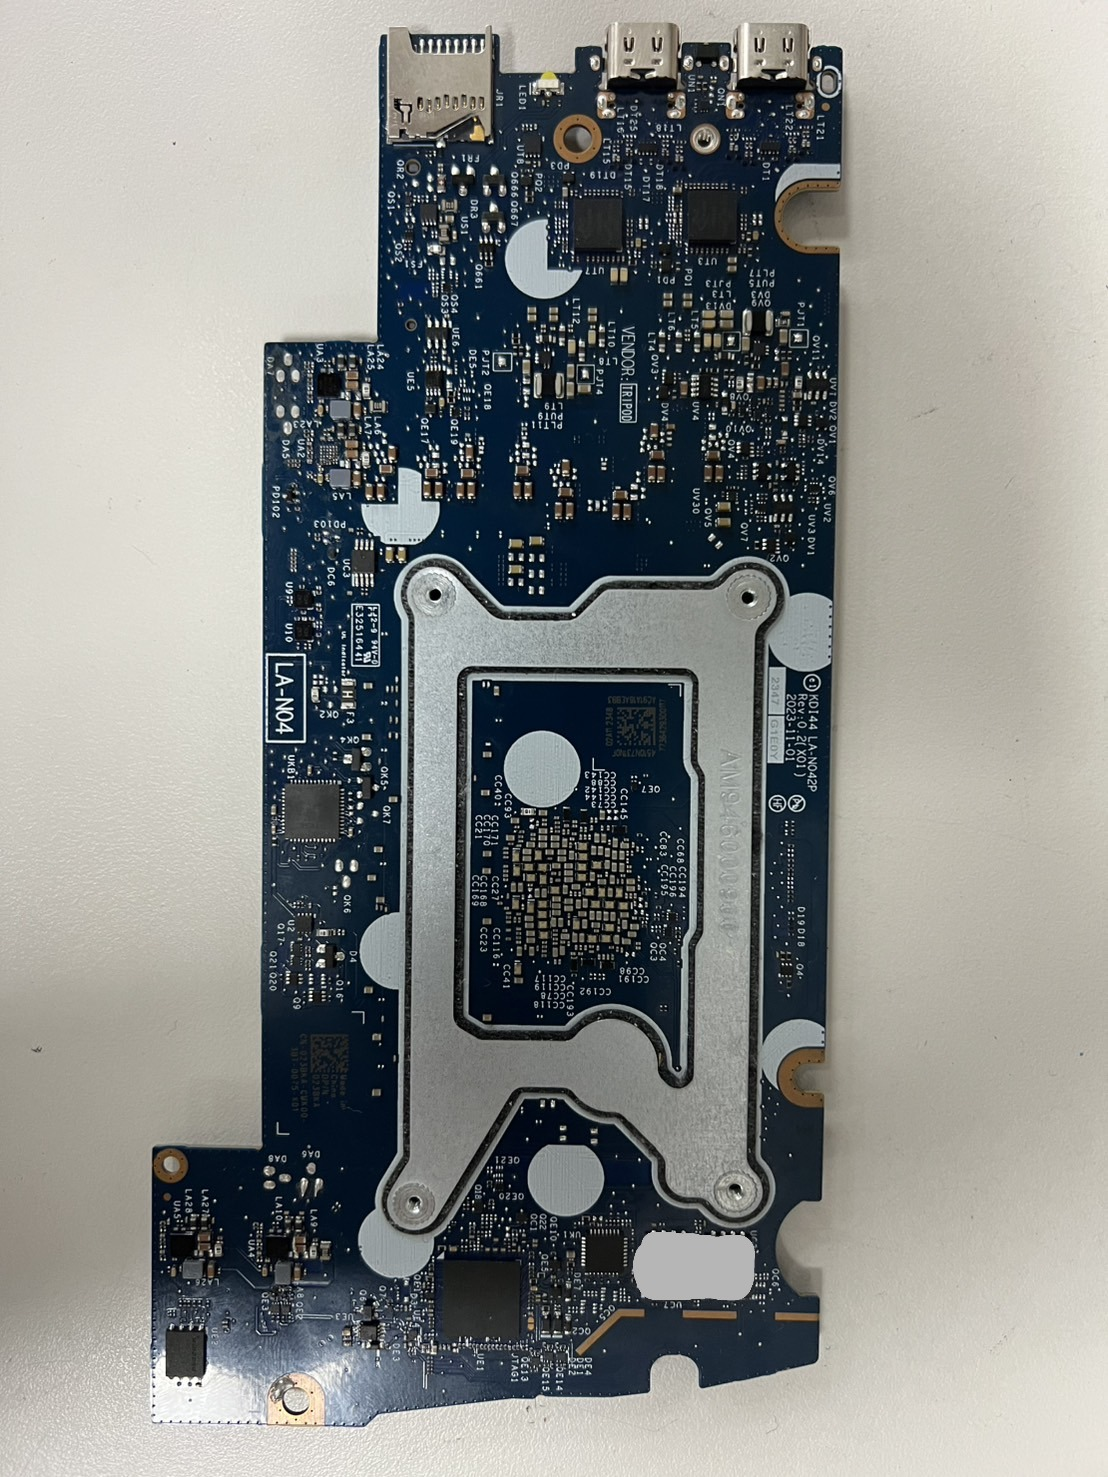error-missing: (630, 1223, 758, 1301), (317, 441, 340, 466)
